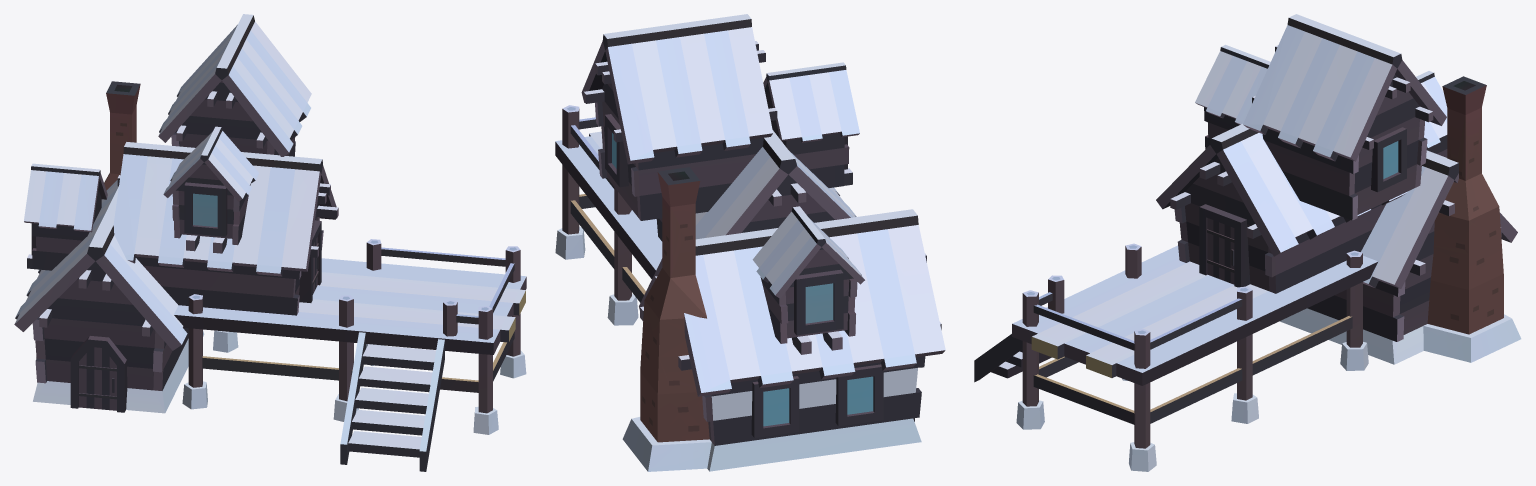
Rendered from House.fbx.
3 views of the same model, side by side, from view 1: azimuth 30°, elevation 25°; view 2: azimuth 150°, elevation 25°; view 3: azimuth 270°, elevation 25° (orthographic). The views are drawn at different scales.
Bounding box in the file's own units: 12.35 × 8.65 × 12.76.
1 material, 1 textured.
